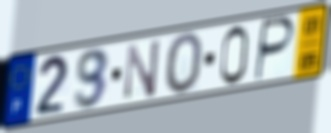0: (218, 23, 251, 86)
2: (33, 51, 73, 122)
9: (72, 46, 112, 111)
N: (122, 37, 162, 101)
O: (164, 30, 205, 98)
P: (252, 14, 297, 84)
